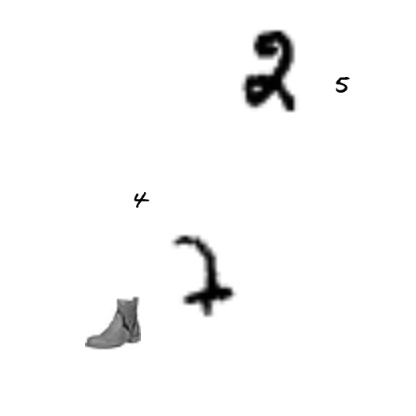2: (214, 15, 326, 127)
4: (129, 188, 151, 210)
5: (331, 73, 353, 95)
7: (148, 220, 260, 332)
Ankle_boot: (85, 295, 141, 351)
